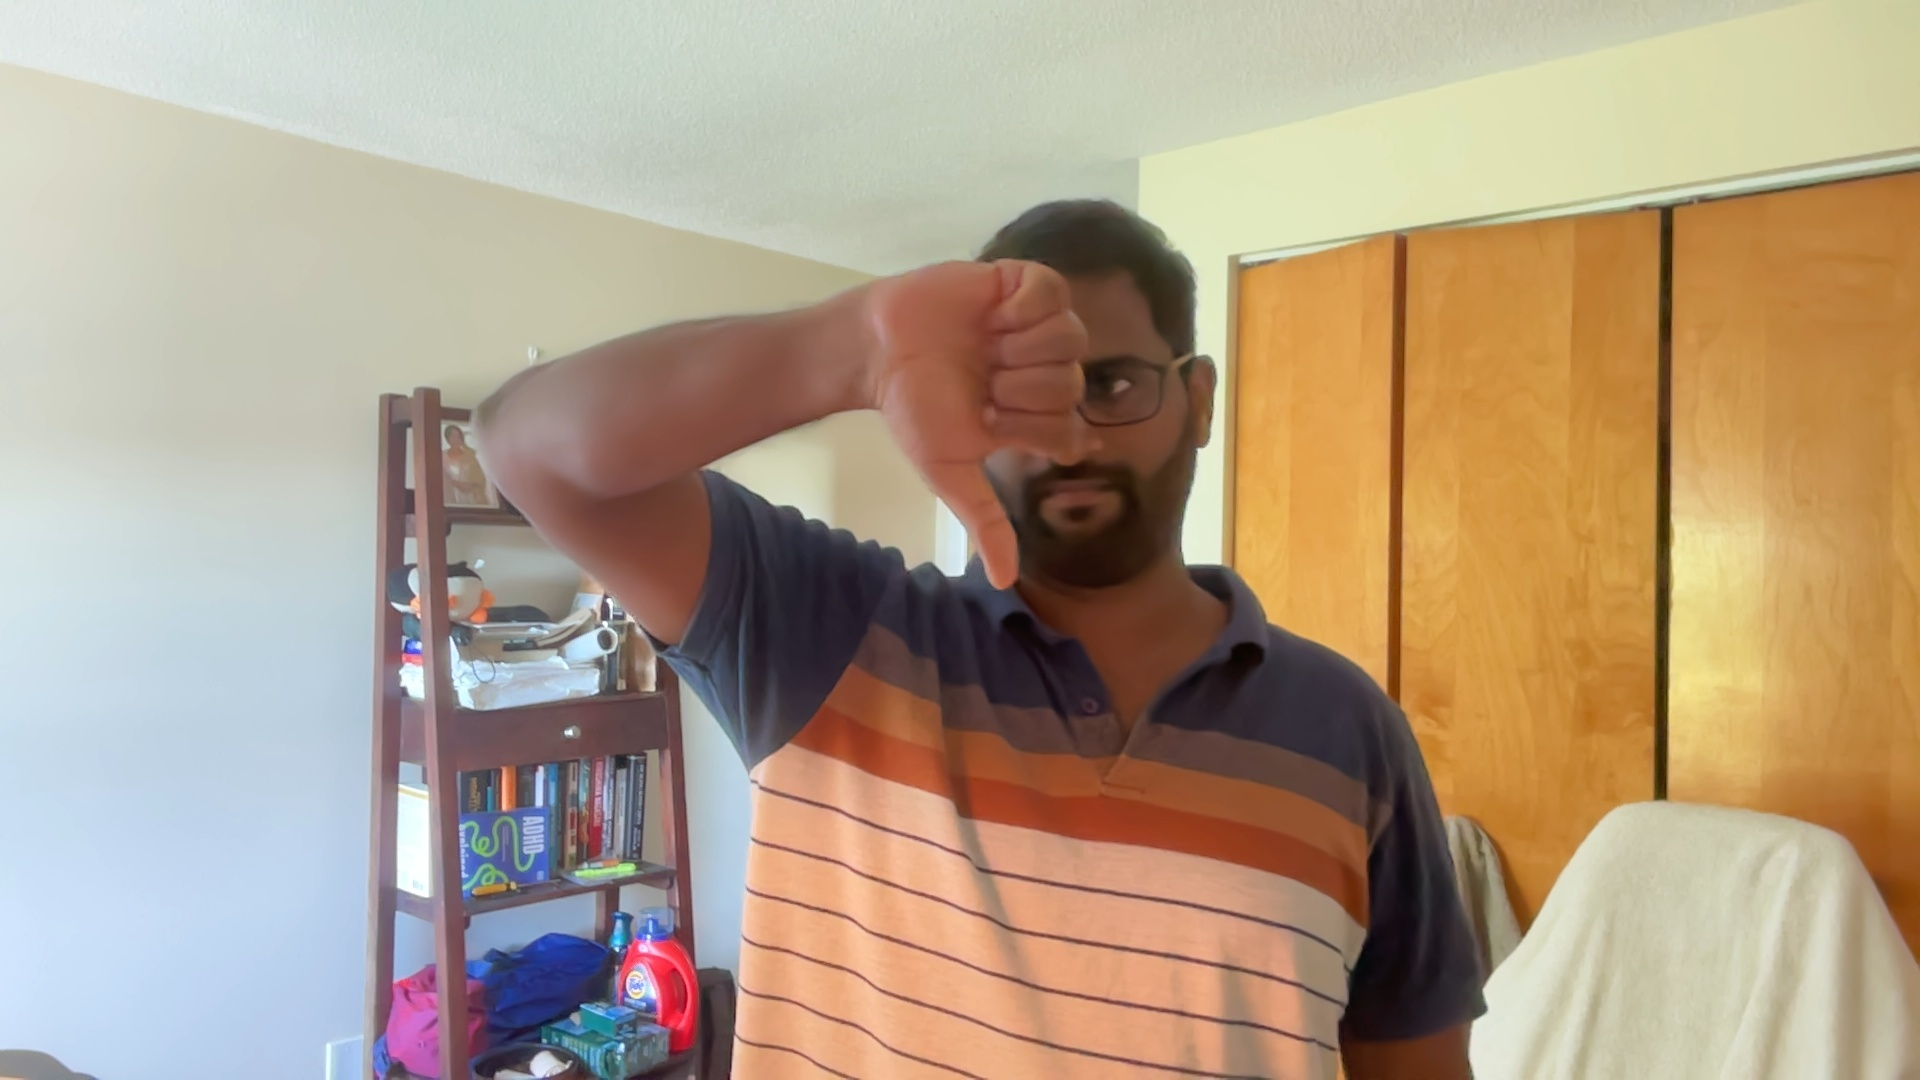ThumbsDown: (856, 257, 1085, 591)
